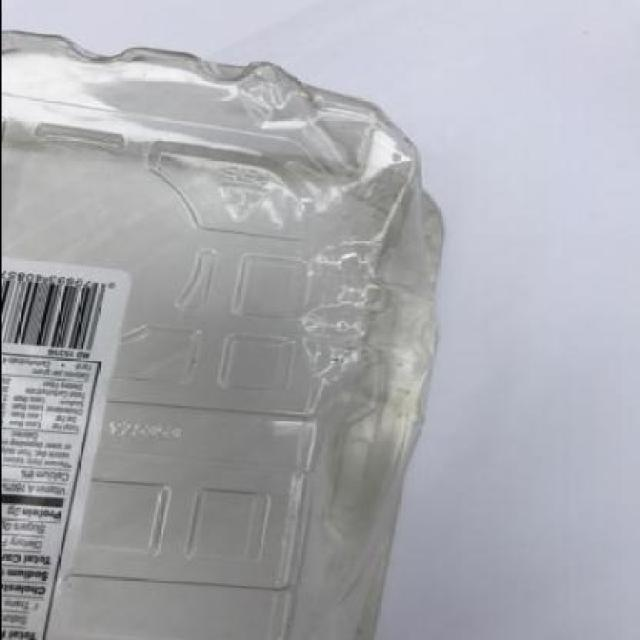PLASTIC: (2, 32, 443, 639)
